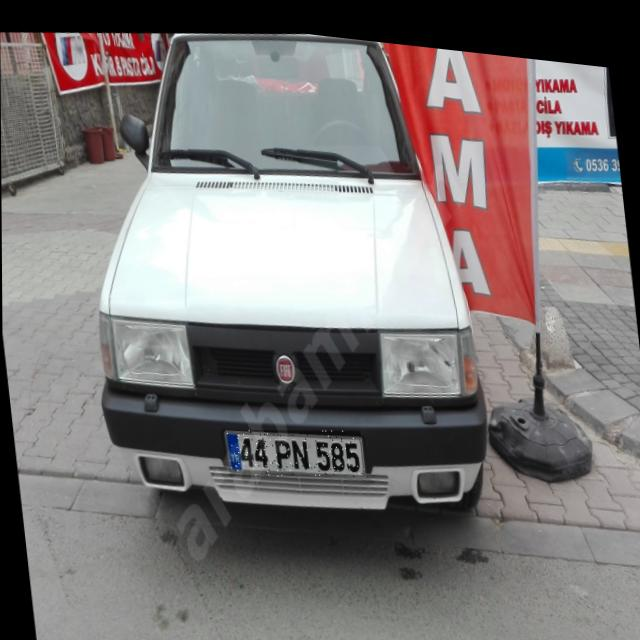license_plate: (224, 410, 364, 482)
